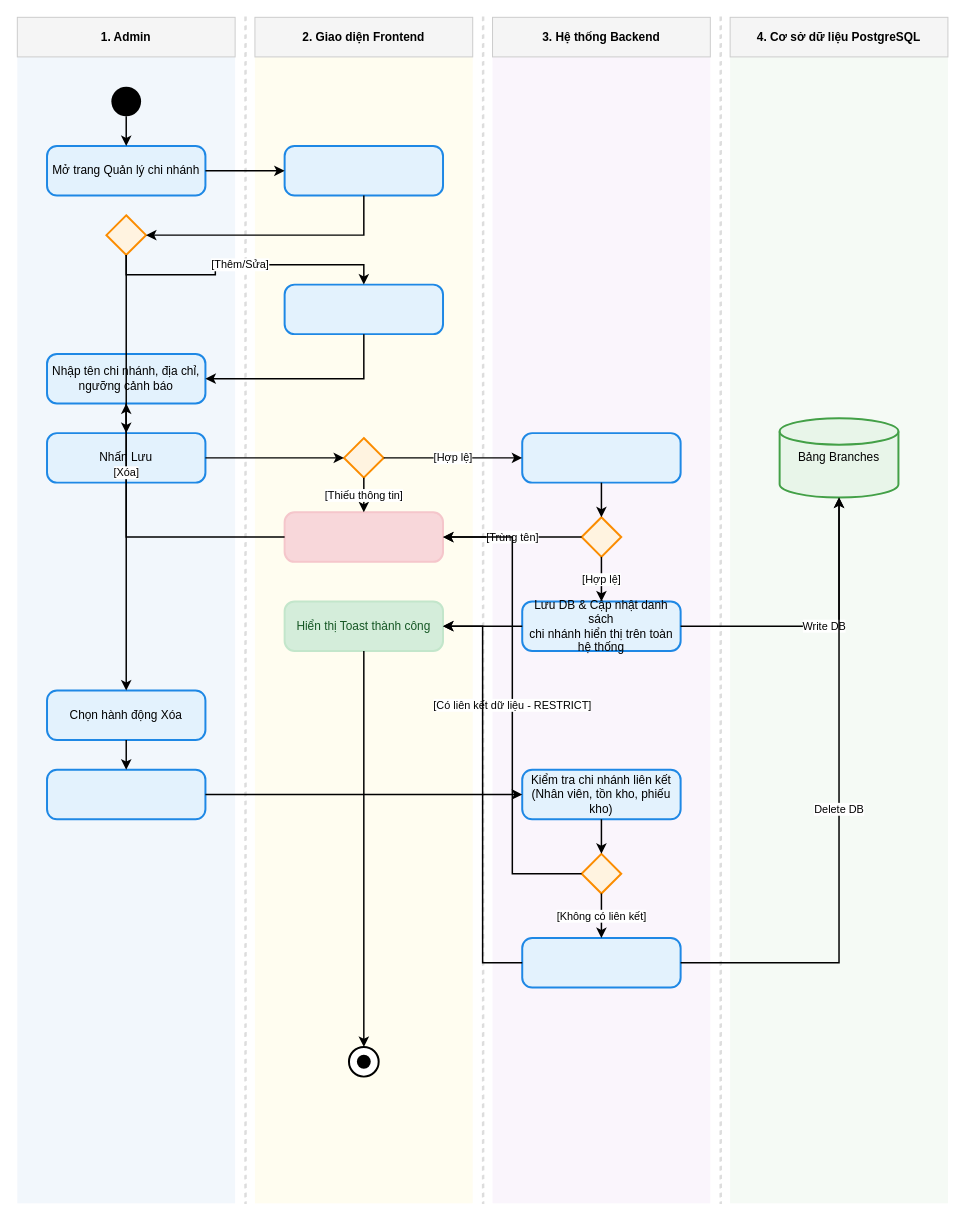
The diagram is 965 pixels wide and 1222 high, and some of its shapes have lost their labels. Each missing label, with the centre of its shape:
Báo lỗi trên giao diện: pixel 363 536
Hiển thị danh sách chi nhánh (Chỉ Admin thao tác): pixel 363 170
Kiểm tra trùng tên chi nhánh: pixel 601 457
Mở Form nhập liệu (Ngưỡng cảnh báo mặc định = 5): pixel 363 309
Xác nhận xóa trên popup: pixel 126 794
Xóa chi nhánh khỏi DB: pixel 601 962
